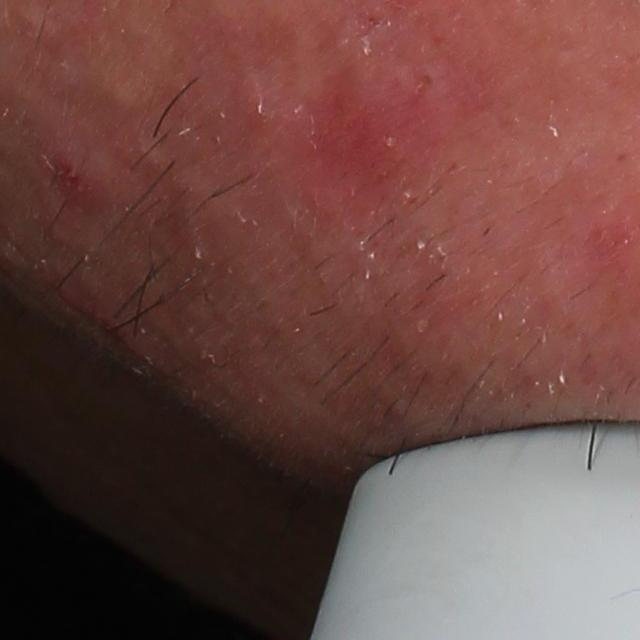papule: (320, 75, 441, 178), (37, 154, 112, 213)
